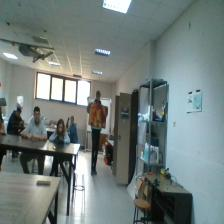fire-poster: (89, 103, 106, 128)
